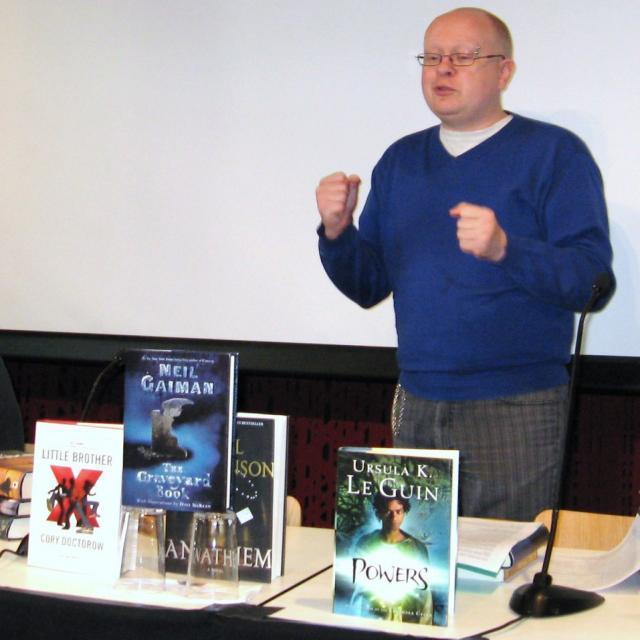book: (327, 442, 481, 628), (157, 416, 292, 586), (120, 348, 242, 513), (27, 425, 137, 577)
